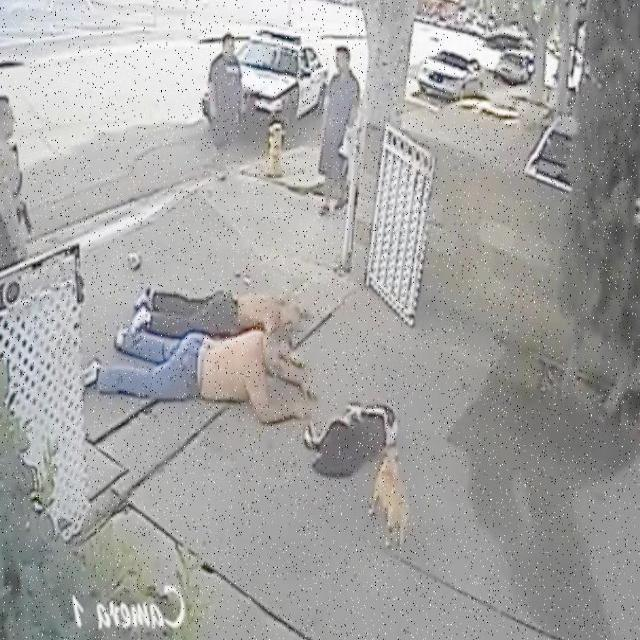fall: (117, 337, 308, 423), (132, 285, 310, 338)
